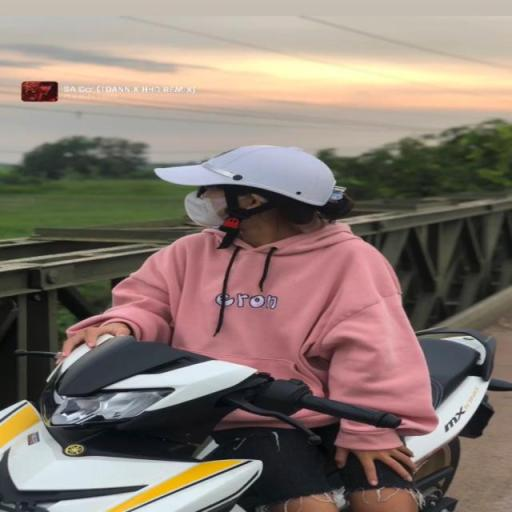with helmet: (145, 142, 348, 207)
